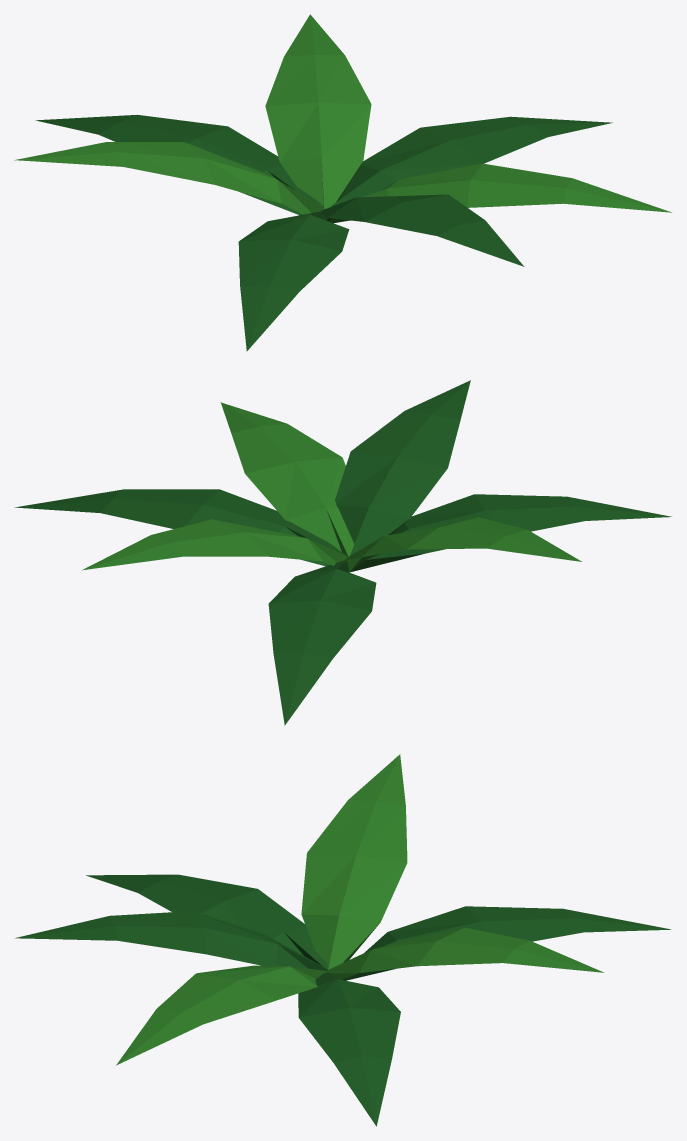
File: fern_small.glb
3 renders of one model, top to bottom at view 1: azimuth 30°, elevation 25°; view 2: azimuth 150°, elevation 25°; view 3: azimuth 270°, elevation 25°, orthographic. The views are drawn at different scales.
Visible parts, largest first — view 1: leaf_dark, leaf; view 2: leaf_dark, leaf; view 3: leaf_dark, leaf.
Part boxes in pixels (box(x1,y1,x2,y2)): leaf_dark: box(35, 114, 612, 351); leaf: box(14, 14, 671, 223); leaf_dark: box(14, 380, 671, 725); leaf: box(82, 402, 581, 571); leaf_dark: box(15, 874, 671, 1126); leaf: box(116, 754, 604, 1065).
Size of the model in its own units: 1.4 by 0.2379 by 1.4.
